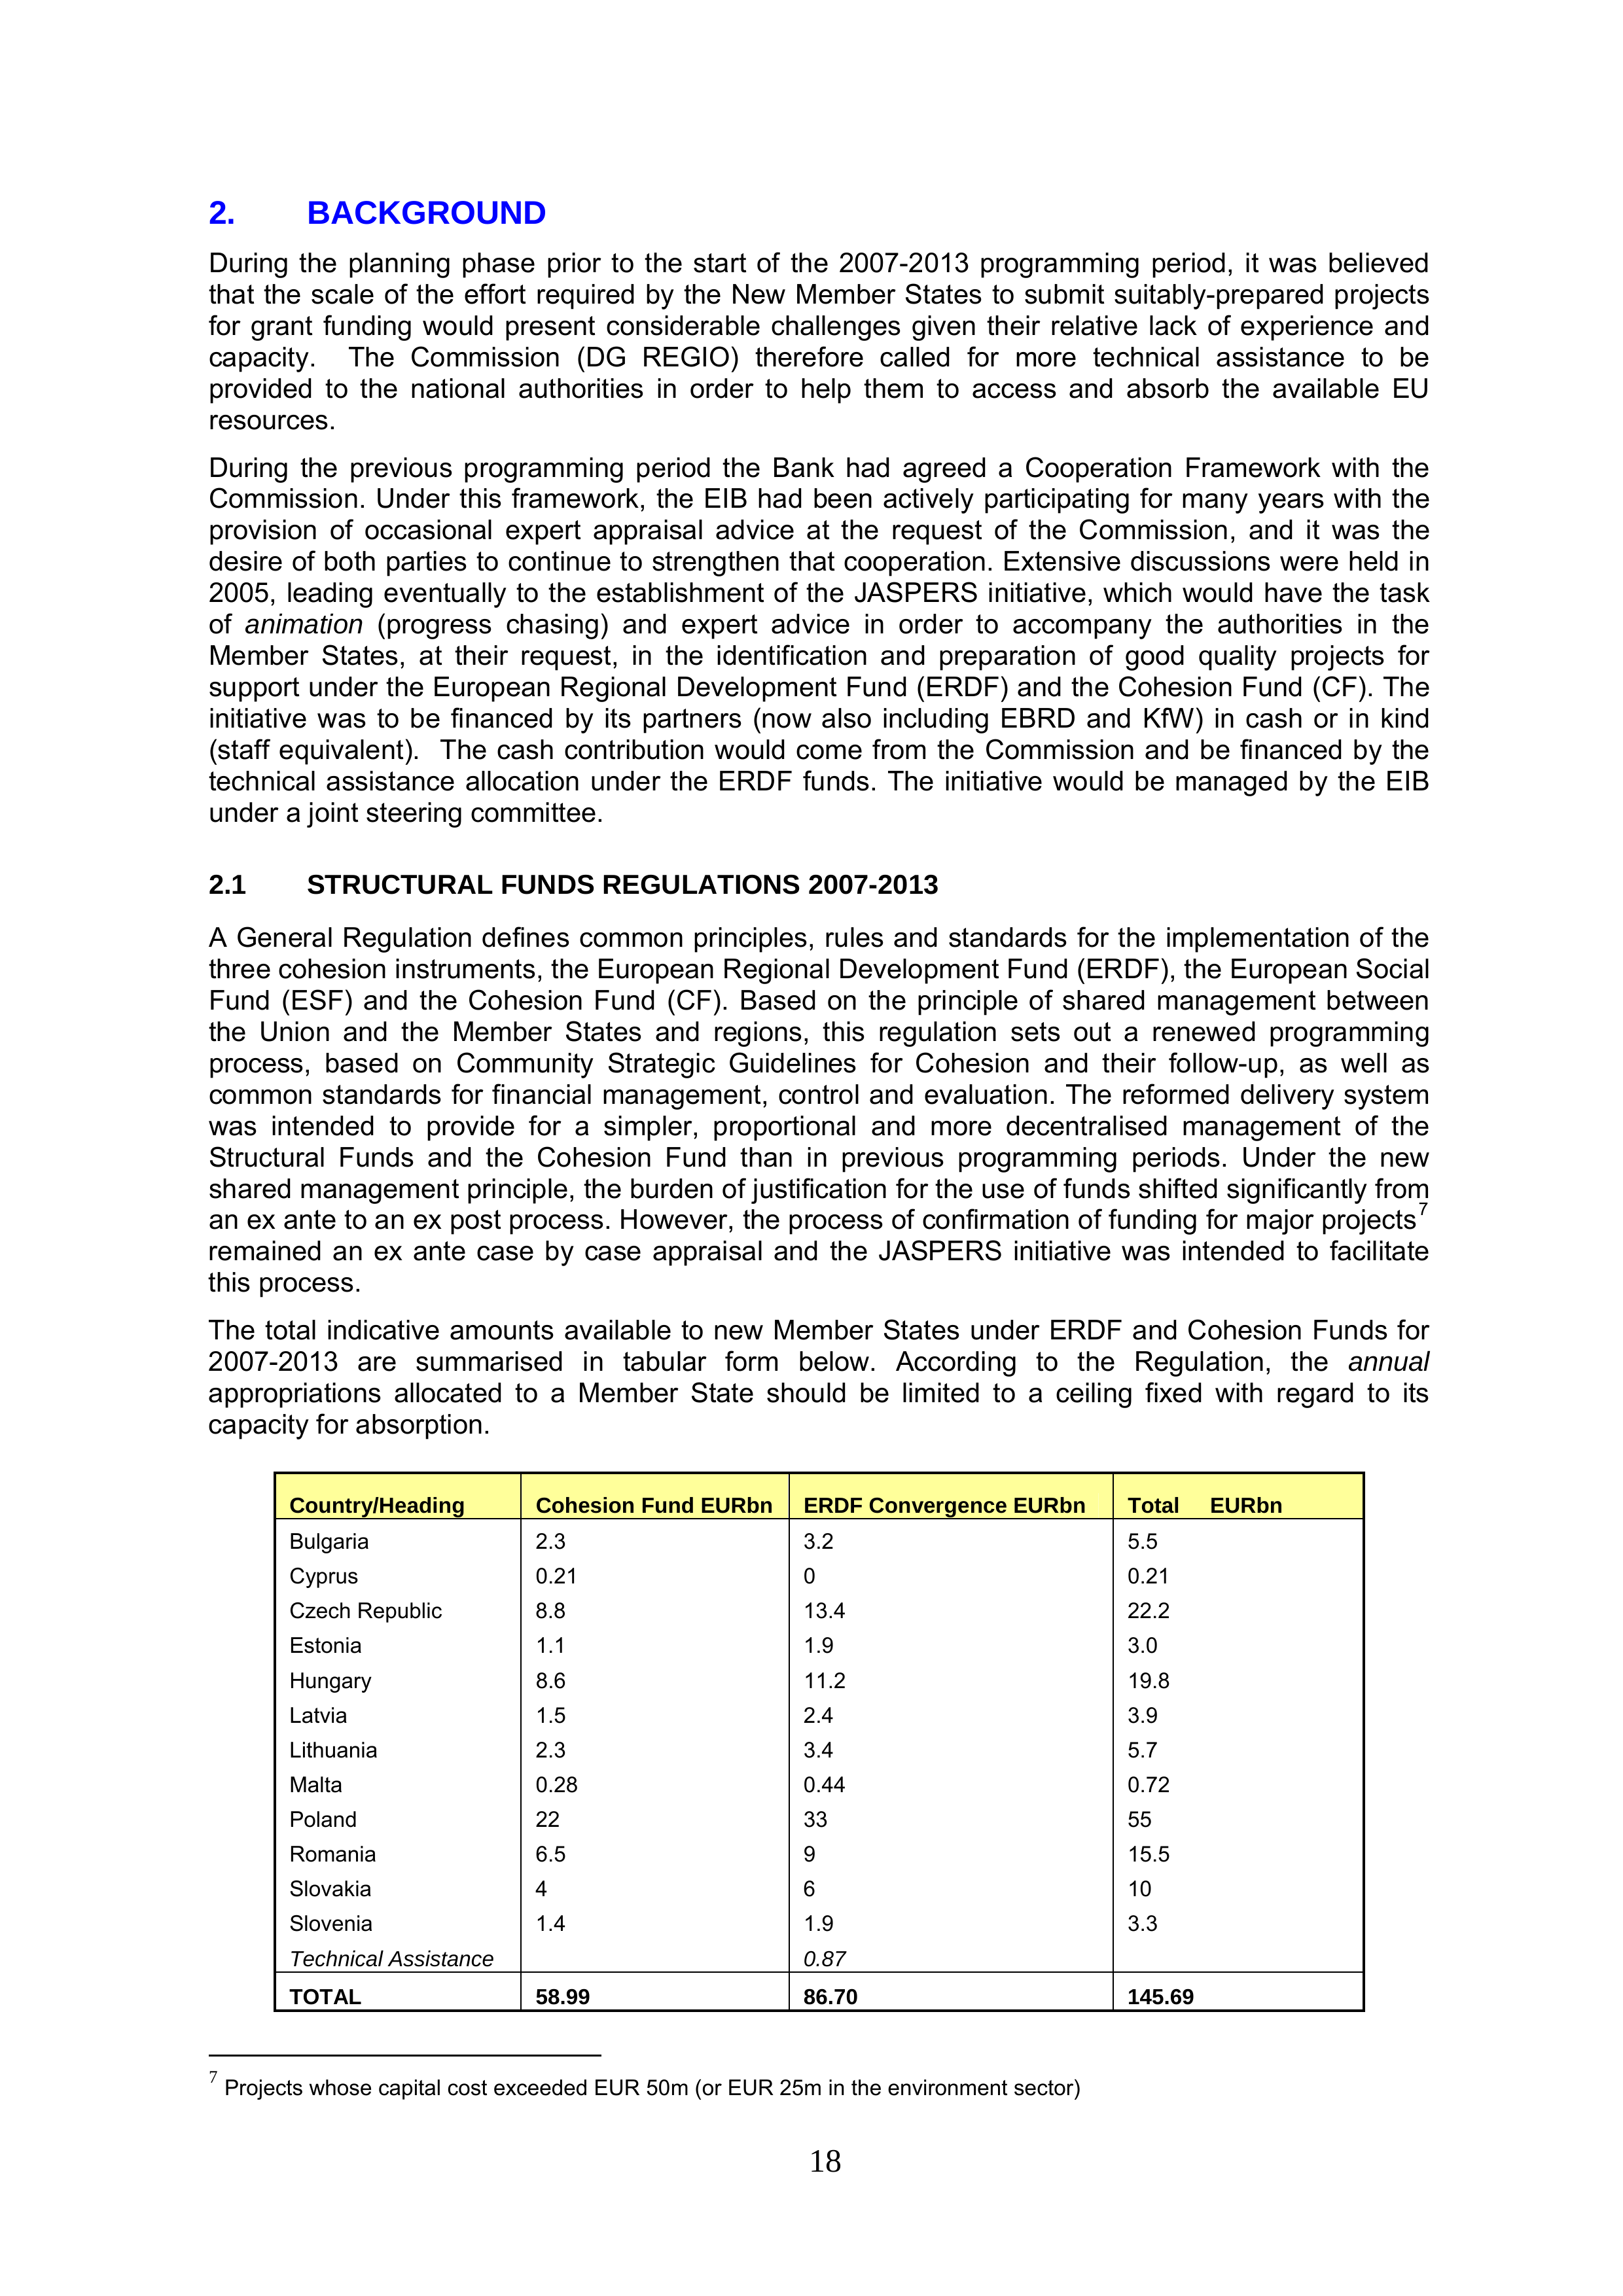table: (270, 1469, 1367, 2013)
